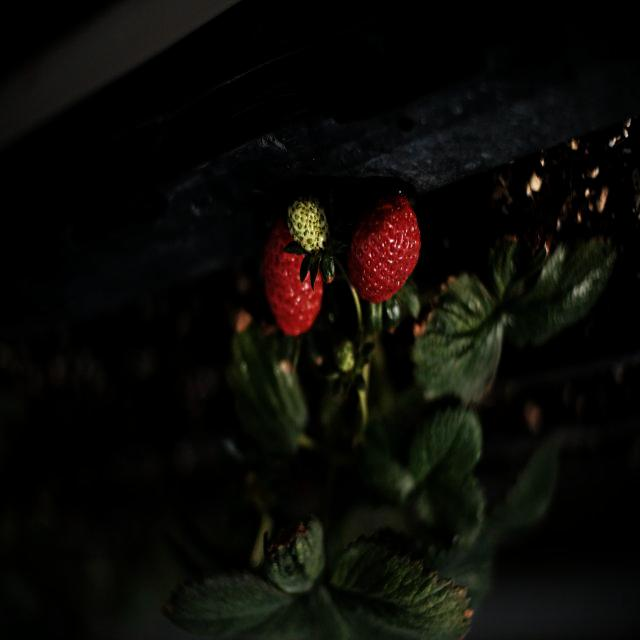ripe: (344, 174, 426, 316), (258, 210, 325, 341)
unripe: (282, 192, 332, 260)
